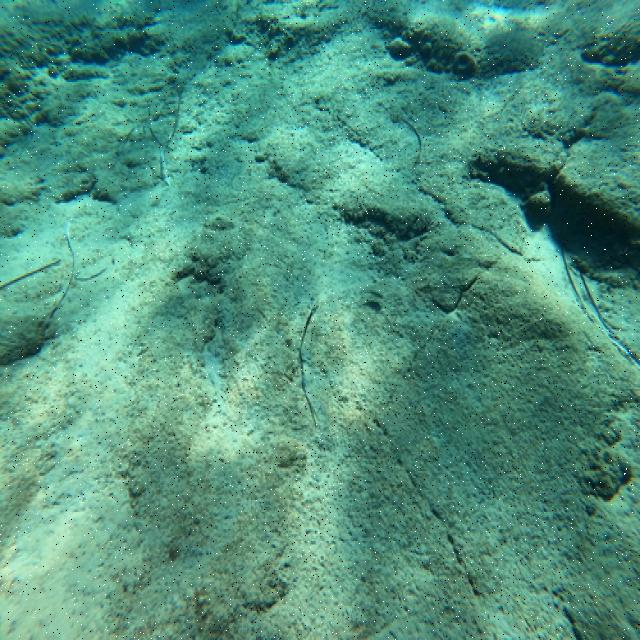Balik: (205, 217, 233, 229)
